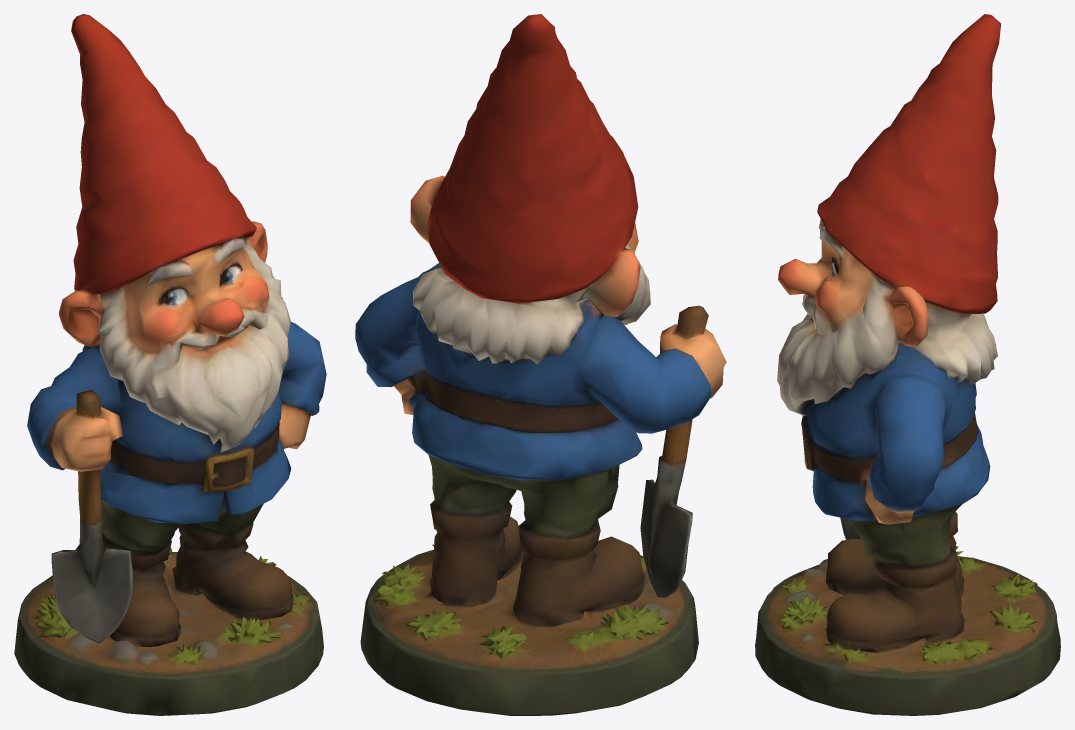
File: gnome.glb
The picture shows the model from 3 angles, left to right: view 1: azimuth 30°, elevation 25°; view 2: azimuth 150°, elevation 25°; view 3: azimuth 270°, elevation 25°; orthographic projection. The views are drawn at different scales.
Visible parts, largest first — view 1: gnome-node; view 2: gnome-node; view 3: gnome-node.
Boxes of the visible parts, box(x1,y1,x2,y2) form: gnome-node: box(14, 14, 326, 715); gnome-node: box(355, 14, 726, 715); gnome-node: box(755, 14, 1060, 715).
Size of the model in its own units: 0.5068 by 1 by 0.4512.
Materials: 1 (1 with a texture image).
